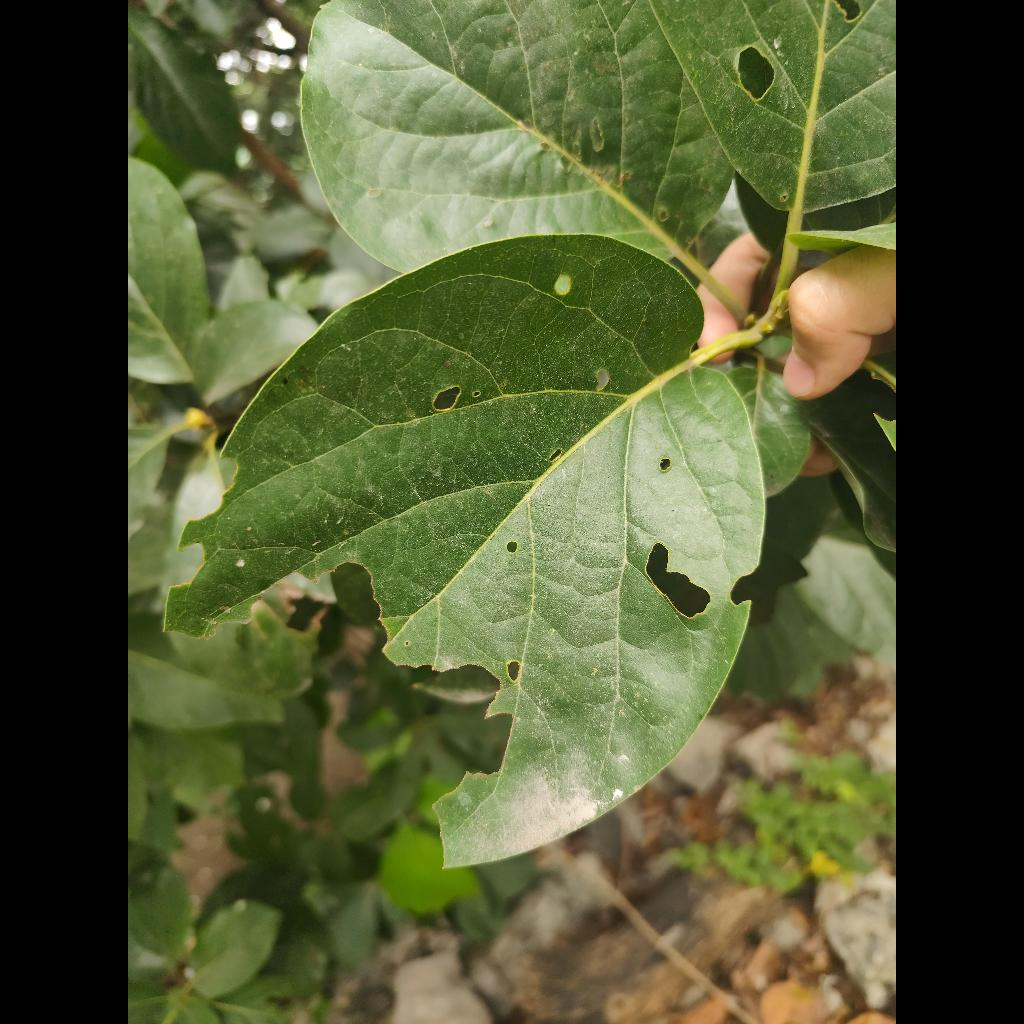plaga: (167, 235, 764, 866)
